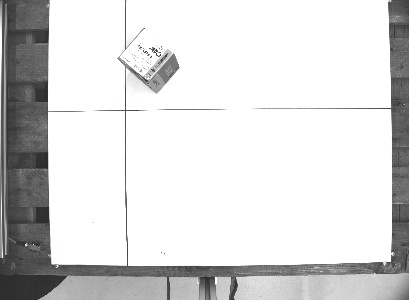b4: (115, 26, 181, 95)
